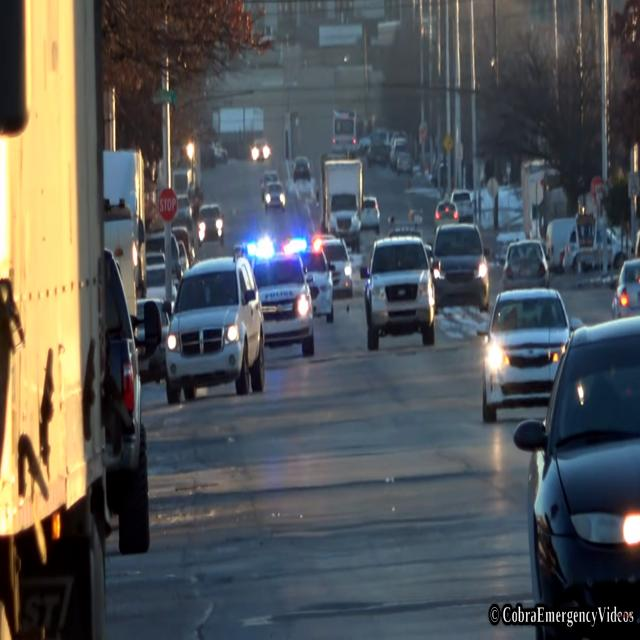emergency-vehicles: (234, 235, 318, 360), (274, 226, 344, 328)
